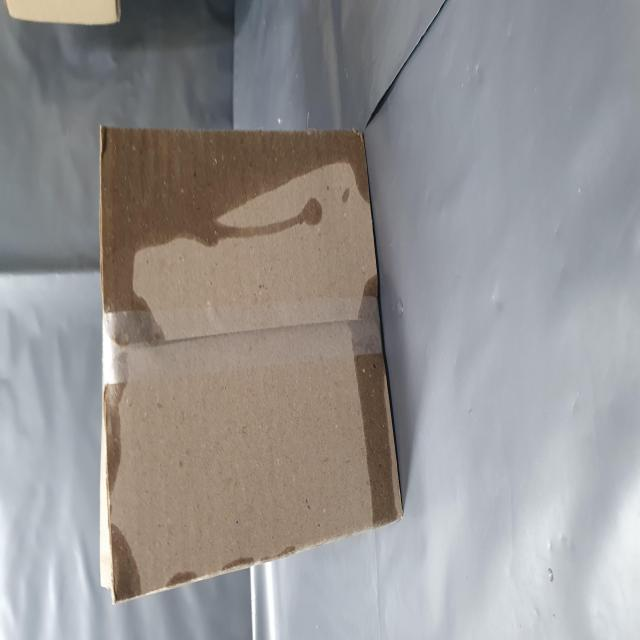wet: (161, 182, 280, 640), (60, 626, 208, 640)
